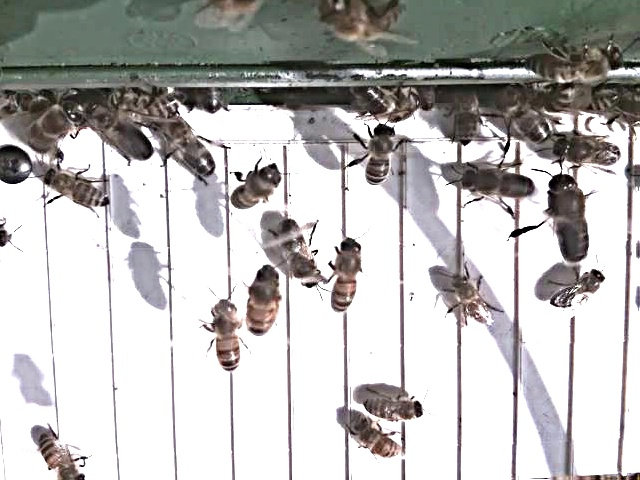Drone: (546, 172, 594, 269), (275, 215, 326, 296), (166, 118, 221, 184), (27, 97, 86, 158), (457, 163, 542, 205), (552, 134, 625, 172), (106, 116, 158, 169)
Worker: (43, 168, 114, 214), (331, 234, 366, 317), (231, 164, 288, 213), (247, 265, 284, 339), (210, 298, 244, 376), (548, 269, 608, 312), (37, 431, 89, 480), (365, 125, 401, 191), (451, 273, 494, 327), (354, 420, 406, 464), (362, 395, 428, 425)
